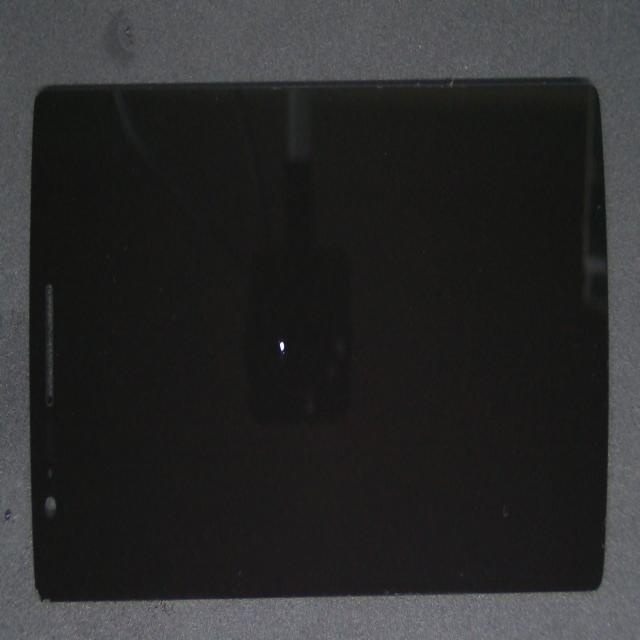stain: (102, 194, 418, 545)
